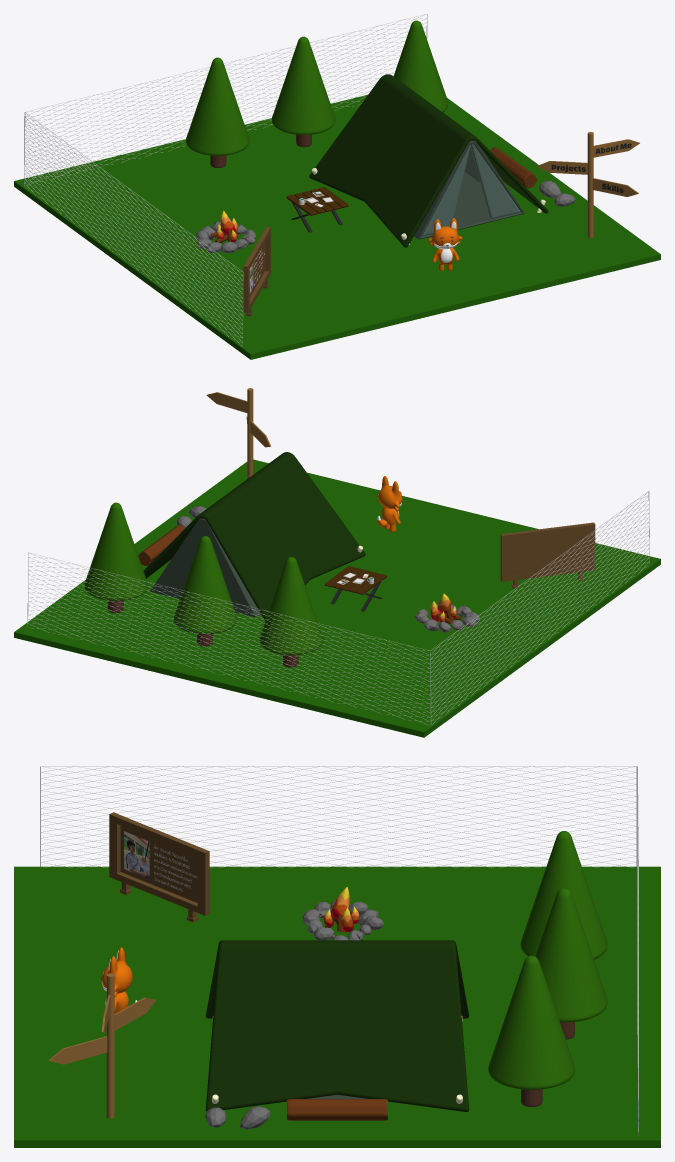
Rendered from 3Dportfolio11.glb.
The picture shows the model from 3 angles, top to bottom: view 1: azimuth 30°, elevation 25°; view 2: azimuth 150°, elevation 25°; view 3: azimuth 270°, elevation 25°; orthographic projection. The views are drawn at different scales.
Parts seen in each view (by area): view 1: Plane, Cube.001, Plane.001, Plane.002, Cylinder.006, Cylinder.008, Cube, Cylinder.004, Plane.006, Cube.003, Cube.002, Cylinder (+3 smaller); view 2: Plane, Cube.001, Plane.002, Plane.001, Cube.003, Cylinder.008, Cylinder.006, Cylinder.004, Cube, Cube.002, Cylinder.002, Cylinder (+1 smaller); view 3: Plane, Cube.001, Plane.001, Cylinder.004, Cube.003, Cylinder.006, Cylinder.008, Cylinder.002, Cylinder, portfolio_photo, Plane.005, Cube.014 (+3 smaller).
Boxes of the visible parts, box(x1,y1,x2,y2) form: Plane: box(14, 94, 660, 359); Cube.001: box(309, 74, 548, 247); Plane.001: box(24, 112, 243, 346); Plane.002: box(24, 14, 427, 186); Cylinder.006: box(271, 36, 335, 134); Cylinder.008: box(186, 57, 249, 155); Cube: box(414, 140, 524, 239); Cylinder.004: box(393, 20, 448, 112); Plane.006: box(422, 144, 520, 236); Cube.003: box(243, 226, 270, 316); Cube.002: box(286, 187, 348, 215); Cylinder: box(587, 132, 593, 238); Plane: box(14, 459, 660, 737); Cube.001: box(143, 452, 365, 620); Plane.002: box(27, 552, 430, 725); Plane.001: box(430, 491, 649, 725); Cube.003: box(500, 522, 595, 588); Cylinder.008: box(259, 557, 323, 655); Cylinder.006: box(173, 536, 237, 634); Cylinder.004: box(84, 502, 147, 600); Cube: box(150, 518, 260, 617); Cube.002: box(324, 566, 386, 594); Cylinder.002: box(138, 525, 184, 565); Cylinder: box(247, 388, 253, 478); Plane: box(14, 866, 660, 1147); Cube.001: box(205, 940, 469, 1111); Plane.001: box(40, 766, 637, 867); Cylinder.004: box(488, 955, 575, 1089); Cube.003: box(109, 812, 209, 922); Cylinder.006: box(535, 888, 607, 1022); Cylinder.008: box(520, 831, 607, 959); Cylinder.002: box(287, 1099, 387, 1120); Cylinder: box(106, 973, 114, 1118); portfolio_photo: box(124, 831, 149, 879); Plane.005: box(48, 1036, 107, 1064); Cube.014: box(102, 947, 132, 996).
Size of the model in its own units: 10.28 by 2.64 by 10.
Materials: 34 (5 with a texture image).
